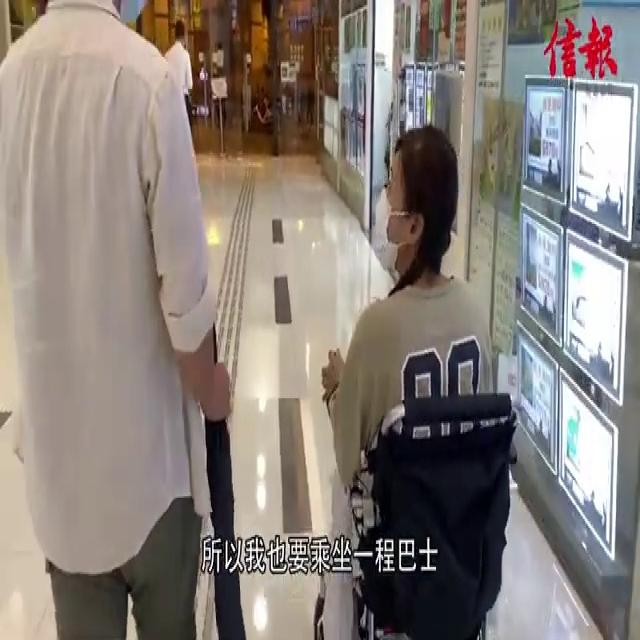wheelchairs: (310, 363, 527, 638)
